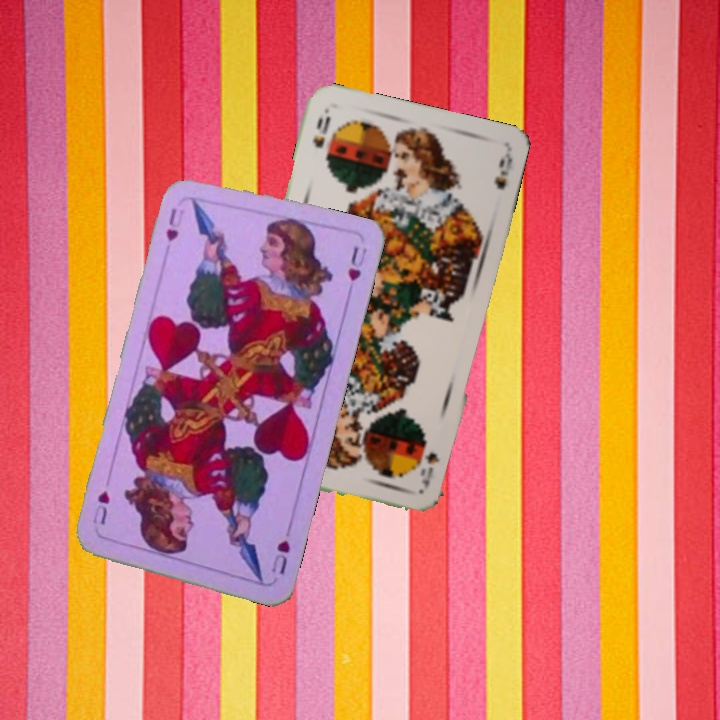HU: (268, 523, 294, 577), (162, 203, 187, 244)
SO: (416, 448, 443, 489), (308, 107, 333, 151)
